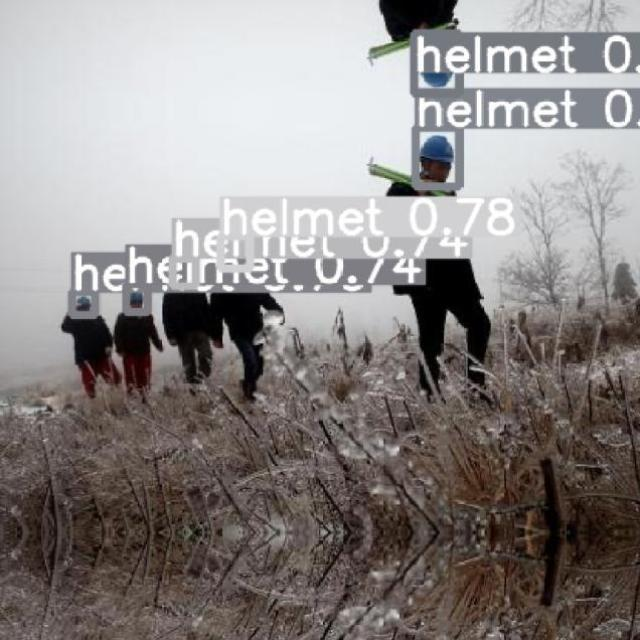helmet: (418, 135, 454, 163)
